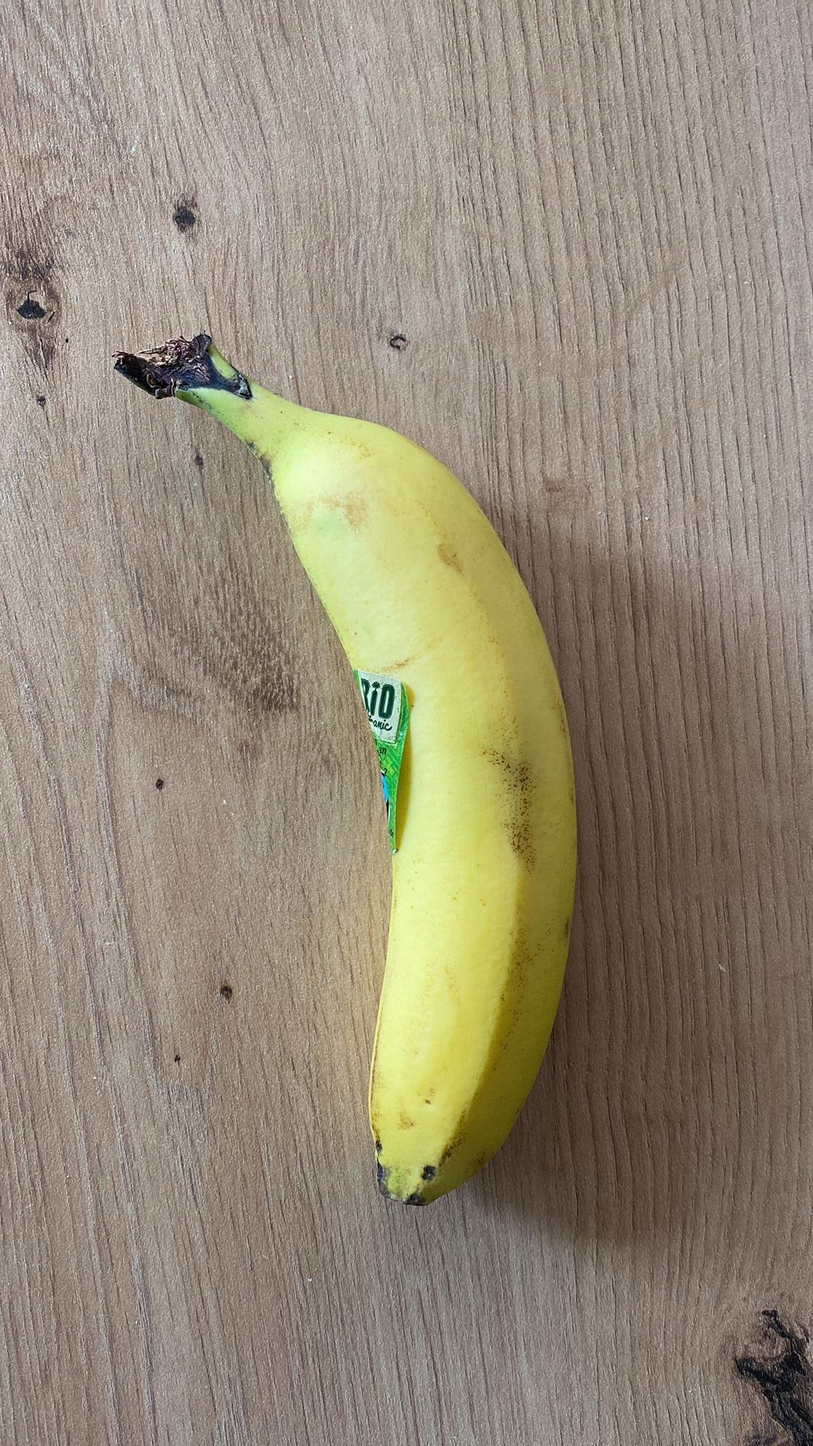banana: (110, 314, 592, 1217)
